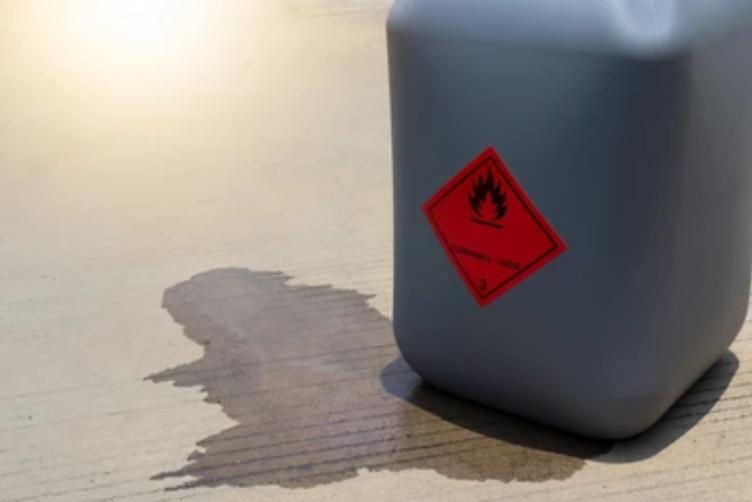water accumulation: (145, 265, 612, 490)
